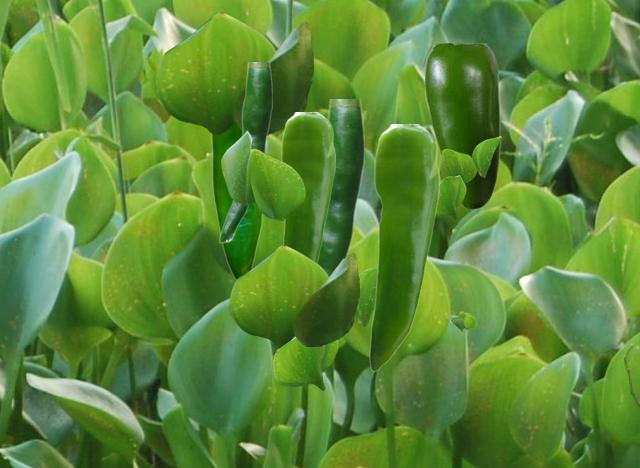green_chili: (369, 124, 438, 370), (425, 43, 499, 209), (218, 62, 271, 242), (211, 124, 267, 279), (281, 112, 334, 262), (319, 99, 363, 274)
